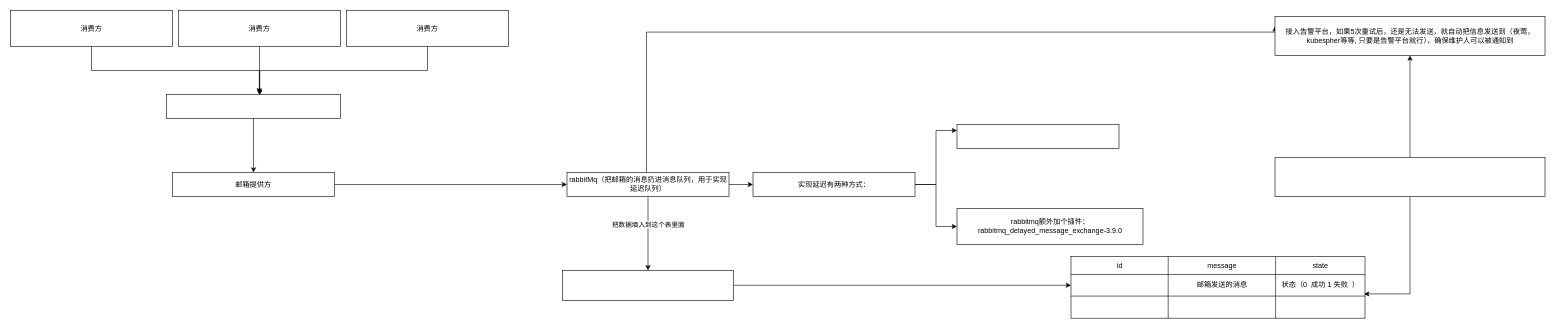
The diagram is 1556 pixels wide and 329 high, and some of its shapes have lost their labels. Each missing label, with the box of its shape:
mysql，其他数据库也可以: (562, 270, 734, 300)
nacos，用于把消费方和提供方注册到nacos的服务列表: (166, 94, 340, 118)
ttl+死信队列: (956, 124, 1119, 148)
xxl-job 定时中间件，每天0点进行对这个消息表进行查看state是否存在1，若存在的话，进行重新发送，这个优点是支持分布式定时，这样避免重复定时。: (1274, 157, 1545, 196)
